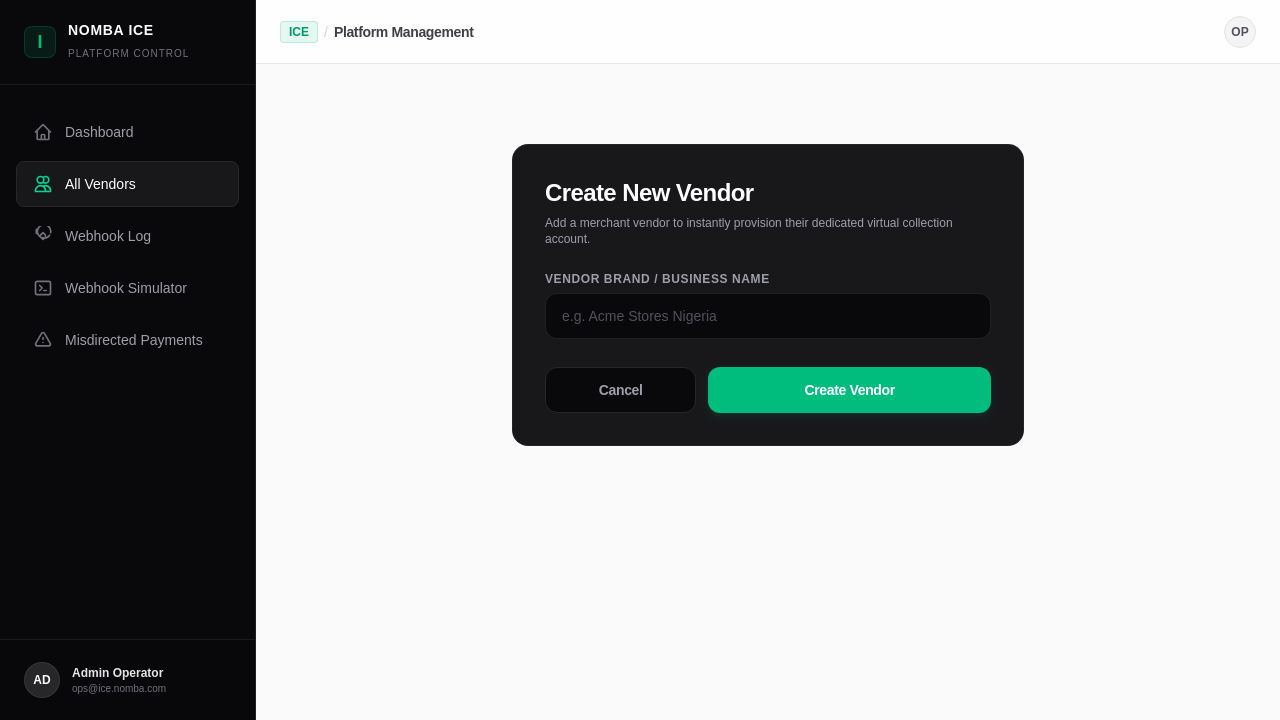
it: NewVendor Page › shows validation error for empty name on submit
This screenshot has width=1280, height=720.
Click the button "Create Vendor" at coordinates (850, 390), box [708,367,991,413]
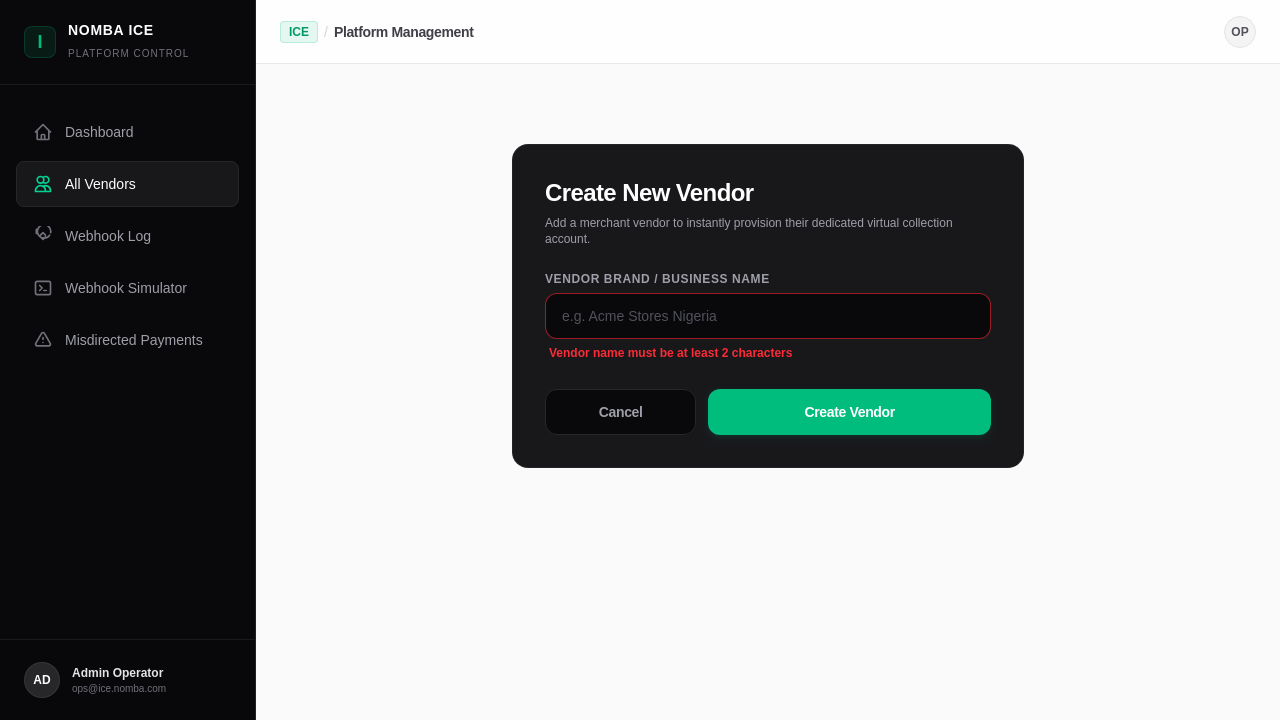
expect the text "Vendor name must be at least 2 characters" is shown: met, box [549,346,792,360]
